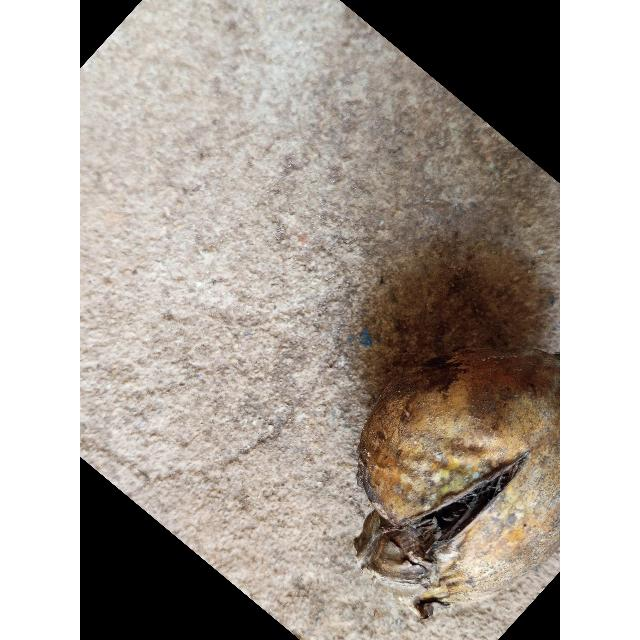damaged: (354, 349, 560, 619)
